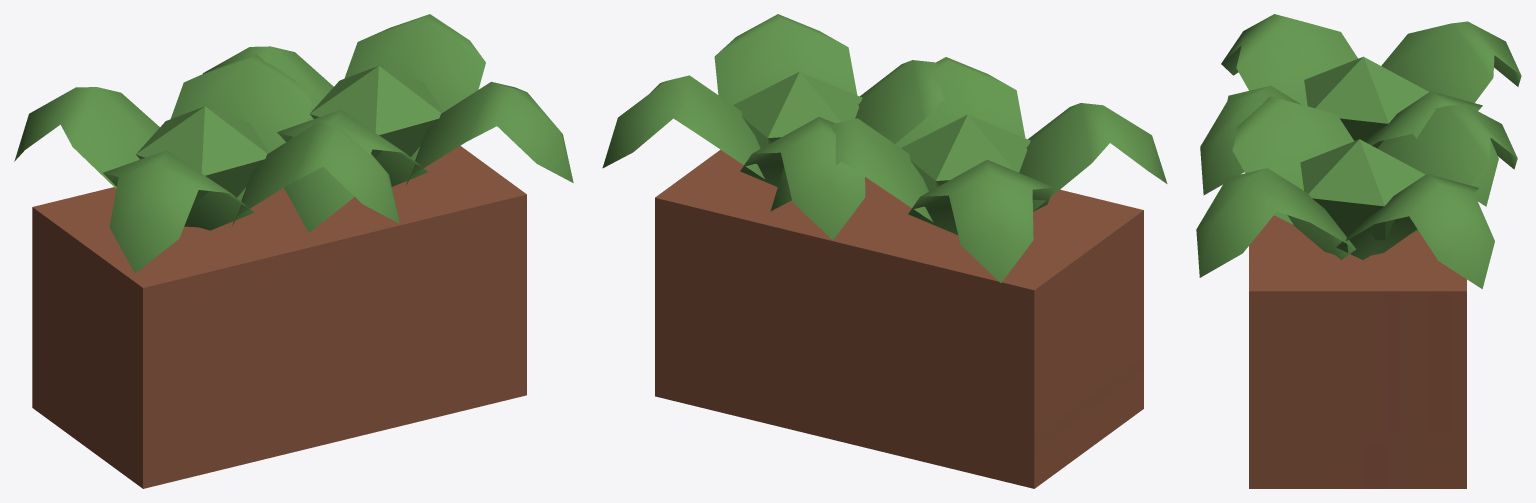
The model's file is GrassFood.fbx.
3 views of the same model, side by side, from view 1: azimuth 30°, elevation 25°; view 2: azimuth 150°, elevation 25°; view 3: azimuth 270°, elevation 25° (orthographic).
Visible parts, largest first — view 1: pCube2; view 2: pCube2; view 3: pCube2.
Boxes of the visible parts, left/top/right/bottom form: pCube2: left=14, top=14, right=573, bottom=488; pCube2: left=602, top=14, right=1167, bottom=488; pCube2: left=1196, top=14, right=1521, bottom=488.
Size of the model in its own units: 95.69 by 63.5 by 60.75.
